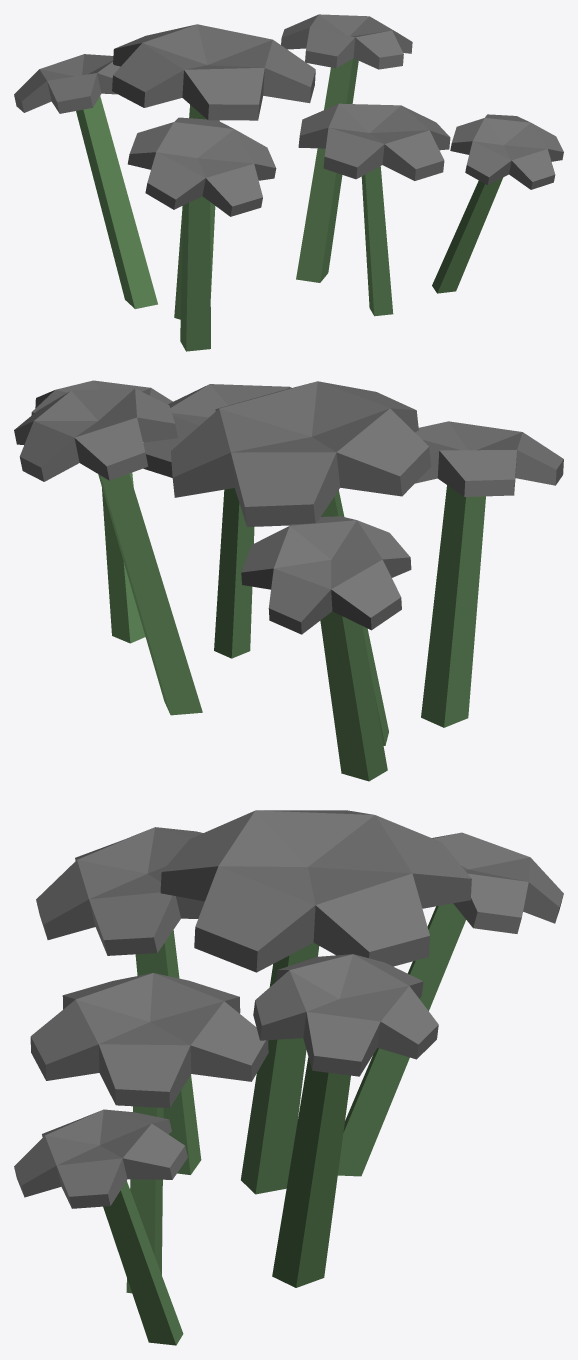
Rendered from SM_Env_FlowerPatch_01.fbx.
The picture shows the model from 3 angles, top to bottom: view 1: azimuth 30°, elevation 25°; view 2: azimuth 150°, elevation 25°; view 3: azimuth 270°, elevation 25°; orthographic projection. The views are drawn at different scales.
Visible parts, largest first — view 1: SM_Env_FlowerPatch_01; view 2: SM_Env_FlowerPatch_01; view 3: SM_Env_FlowerPatch_01.
Part boxes in pixels (x1,y1,x2,y2): SM_Env_FlowerPatch_01: [14, 14, 563, 351]; SM_Env_FlowerPatch_01: [14, 380, 563, 781]; SM_Env_FlowerPatch_01: [14, 810, 563, 1345].
Bounding box in the file's own units: 58.49 × 34.65 × 47.24.
